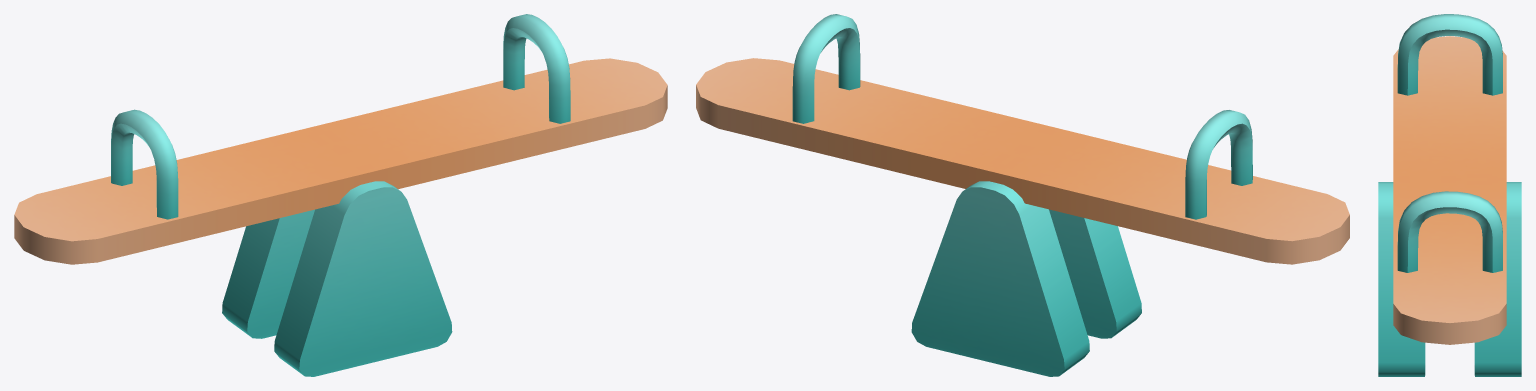
The model's file is Seesaw.fbx.
3 views of the same model, side by side, from view 1: azimuth 30°, elevation 25°; view 2: azimuth 150°, elevation 25°; view 3: azimuth 270°, elevation 25° (orthographic). The views are drawn at different scales.
Parts seen in each view (by area): view 1: Seesaw_02, Seesaw_01; view 2: Seesaw_02, Seesaw_01; view 3: Seesaw_02, Seesaw_01.
Part boxes in pixels (bbox=[...]): Seesaw_02: bbox=[14, 14, 667, 264]; Seesaw_01: bbox=[222, 181, 452, 376]; Seesaw_02: bbox=[696, 14, 1349, 264]; Seesaw_01: bbox=[911, 181, 1141, 376]; Seesaw_02: bbox=[1393, 14, 1506, 344]; Seesaw_01: bbox=[1378, 182, 1521, 376].
Size of the model in its own units: 311 by 123 by 65.86.
